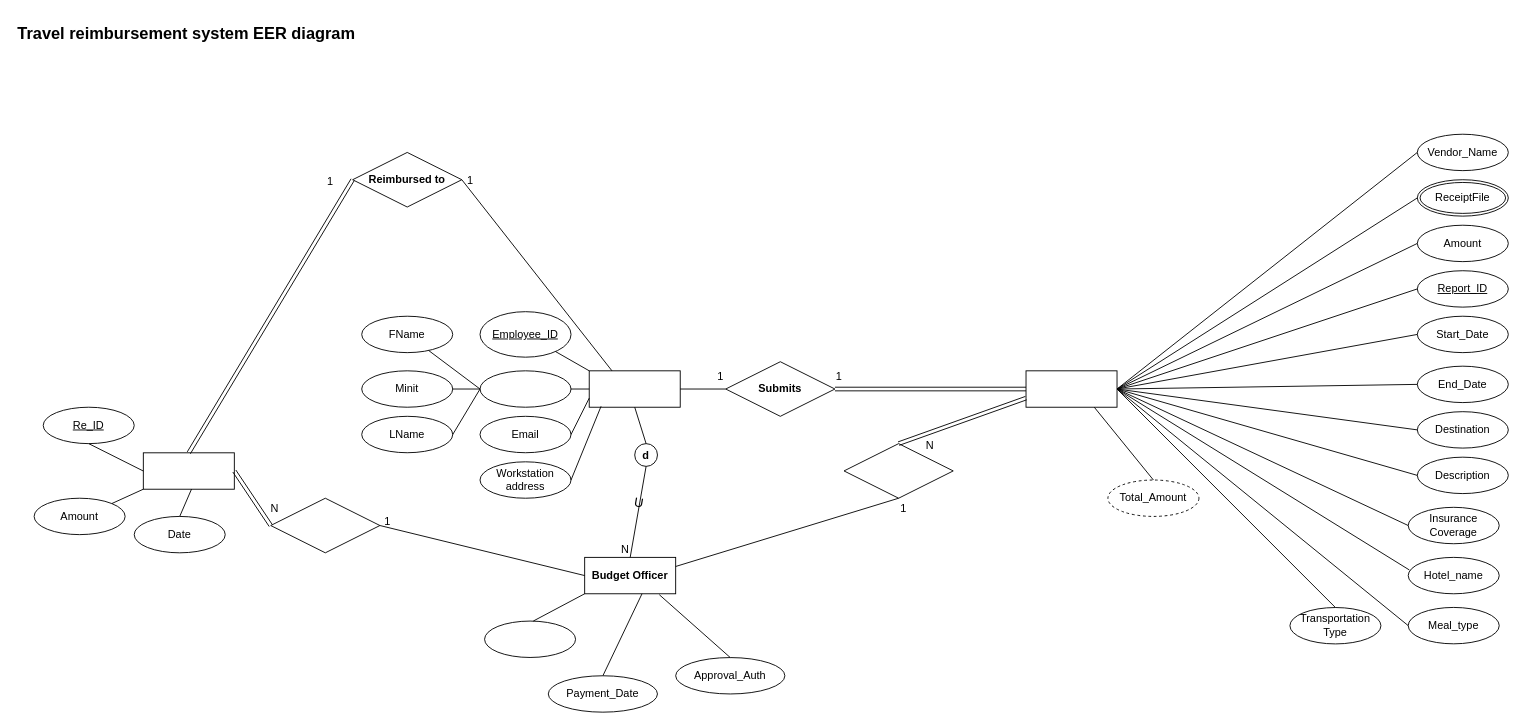
The diagram is 1524 pixels wide and 728 high, and some of its shapes have lost their labels. The shapes that lost their labels are listed below. From the top down, each one's centre as x and y in pixels, then its label:
the point at 525,388: Name
the point at 634,388: Employee
the point at 1071,388: Post-Travel Expense Report
the point at 188,470: Reimbursement
the point at 898,470: Reimbursed by
the point at 325,525: Processed by
the point at 530,638: BudgetOfficer_ID
